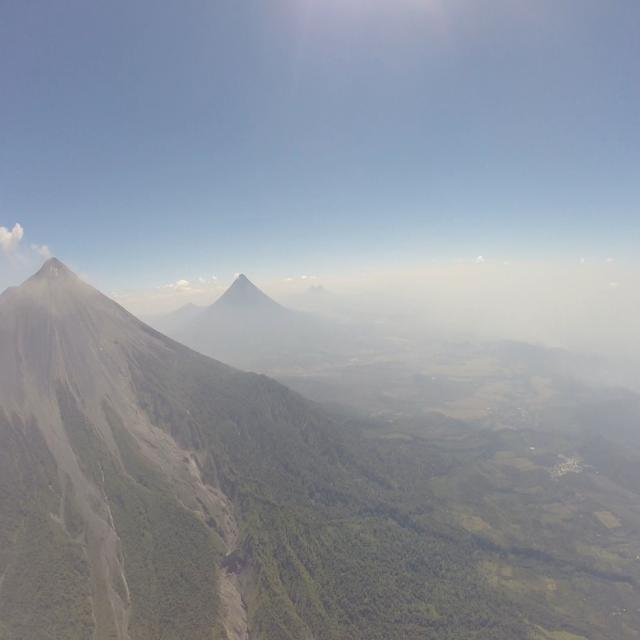Plume: (2, 220, 22, 264)
Summit: (31, 252, 81, 282)
